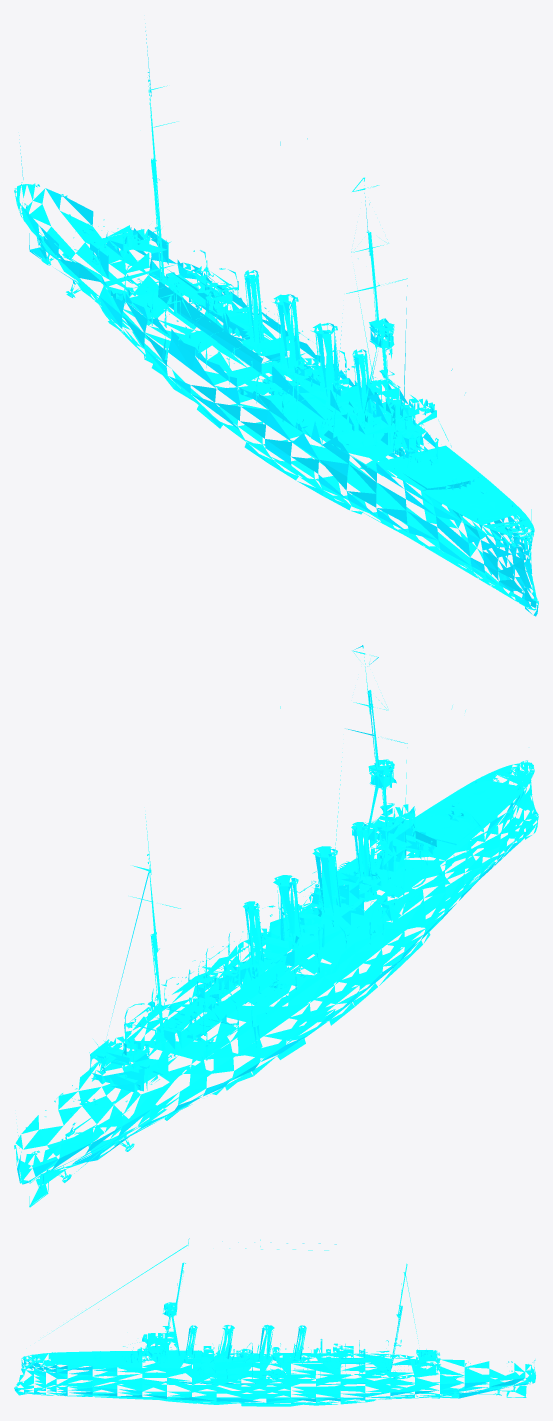
The model's file is Weymouth.glb.
The picture shows the model from 3 angles, top to bottom: view 1: azimuth 30°, elevation 25°; view 2: azimuth 150°, elevation 25°; view 3: azimuth 270°, elevation 25°; orthographic projection. The views are drawn at different scales.
Bounding box in the file's own units: 0.9941 × 3.15 × 9.25.
